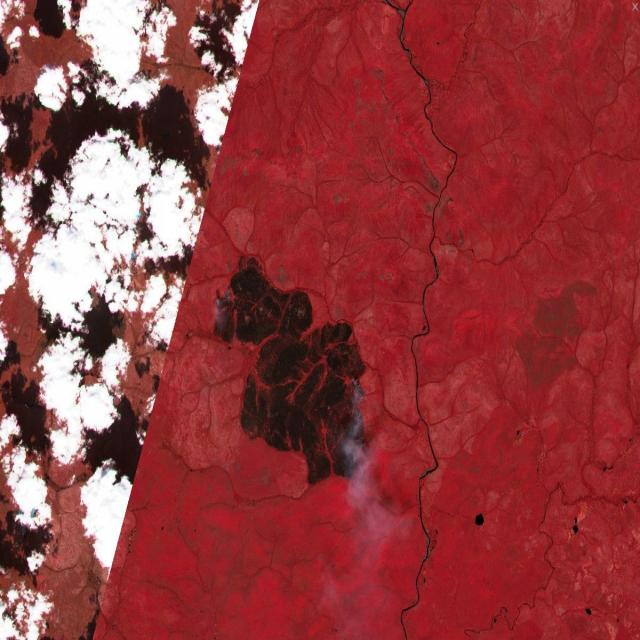fire: (339, 368, 385, 484), (204, 274, 241, 345)
